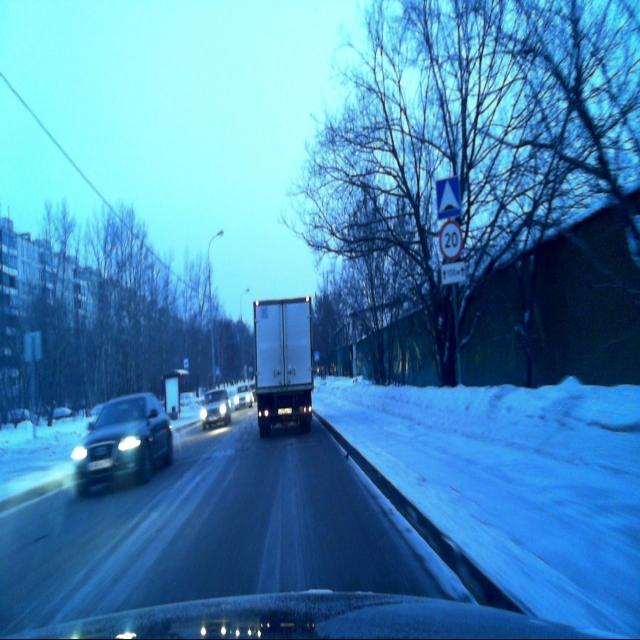object: (452, 290, 462, 384)
road sign: (435, 177, 462, 220), (440, 262, 468, 285)
